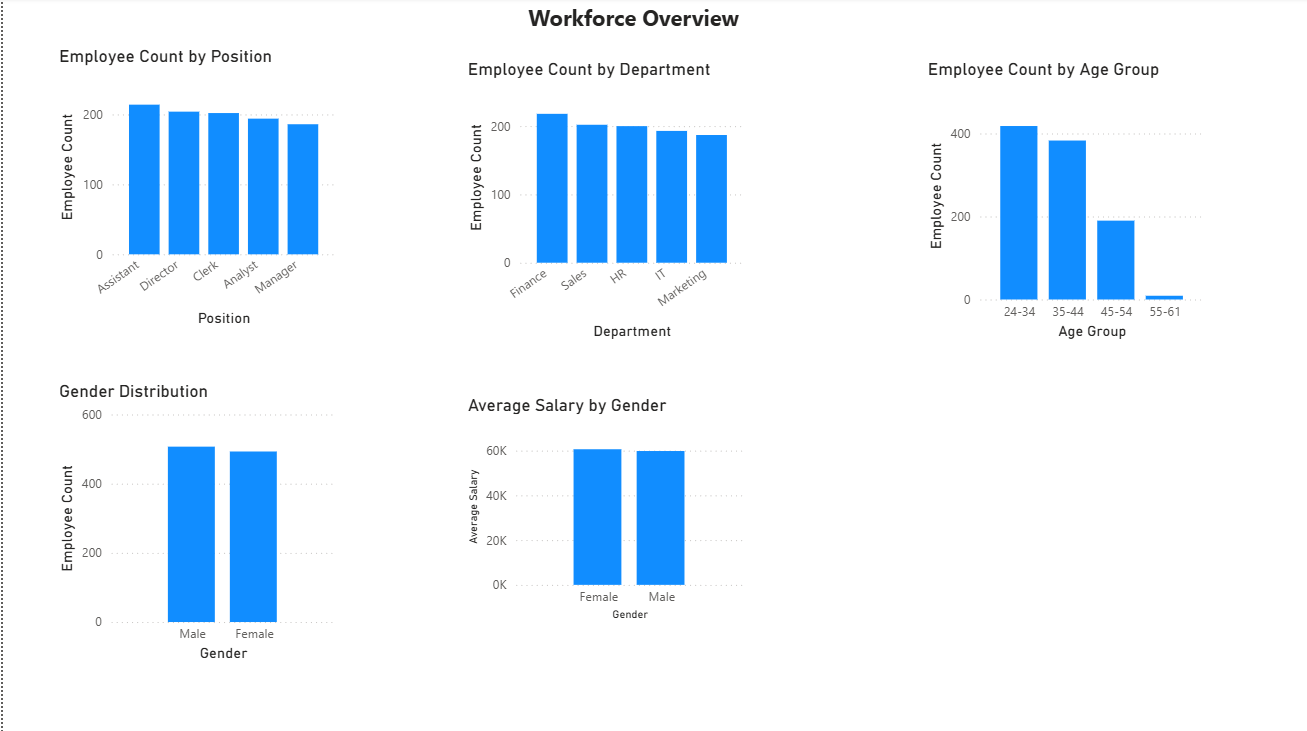

The page's visual inventory and layout, read from the dashboard file:
{"tool":"powerbi","page":{"name":"Key Findings","canvas":[1280,720],"ordinal":1},"visuals":[{"type":"clusteredColumnChart","fields":{"Y":["hr_data_ hr_analysis_view.Employee Count"],"Category":["hr_data_ hr_analysis_view.Position"]},"box":[50.1,47.7,280,280],"z":0},{"type":"clusteredColumnChart","title":"Gender Distribution","fields":{"Y":["hr_data_ hr_analysis_view.Employee Count"],"Category":["hr_data_ hr_analysis_view.Gender"]},"box":[50.1,375.4,280,280],"z":1000},{"type":"columnChart","fields":{"Y":["hr_data_ hr_analysis_view.Employee Count"],"Category":["hr_data_ hr_analysis_view.Department_clean"]},"box":[450,59.9,280,280],"z":2000},{"type":"columnChart","title":"Average Salary  by Gender","fields":{"Y":["hr_data_ hr_analysis_view.Average Salary"],"Category":["hr_data_ hr_analysis_view.Gender"]},"box":[450,388.9,280,226.2],"z":3000},{"type":"textbox","box":[339.9,0,550.3,47.7],"z":4000},{"type":"columnChart","fields":{"Category":["hr_data_ hr_analysis_view.Age Group"],"Y":["hr_data_ hr_analysis_view.Employee Count"]},"box":[900,60,280,280],"z":5000},{"type":"textbox","box":[799.7,399.9,435.3,205.4],"z":5001}]}

Visuals, with their boxes in screenshot pixels (x1, y1, x2, y2), scaled from the page's 1280x720 canvas onto the 1307x731 screenshot:
clusteredColumnChart - hr_data_ hr_analysis_view.Employee Count x hr_data_ hr_analysis_view.Position: select_region(51, 48, 337, 333)
"Gender Distribution" clusteredColumnChart: select_region(51, 381, 337, 665)
columnChart - hr_data_ hr_analysis_view.Employee Count x hr_data_ hr_analysis_view.Department_clean: select_region(459, 61, 745, 345)
"Average Salary  by Gender" columnChart: select_region(459, 395, 745, 624)
textbox: select_region(347, 0, 909, 48)
columnChart - hr_data_ hr_analysis_view.Age Group x hr_data_ hr_analysis_view.Employee Count: select_region(919, 61, 1205, 345)
textbox: select_region(817, 406, 1261, 615)
